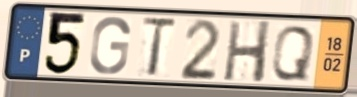2: (180, 16, 221, 81)
5: (42, 11, 90, 78)
G: (87, 15, 132, 76)
H: (221, 19, 274, 86)
Q: (269, 24, 317, 83)
T: (139, 17, 179, 79)
